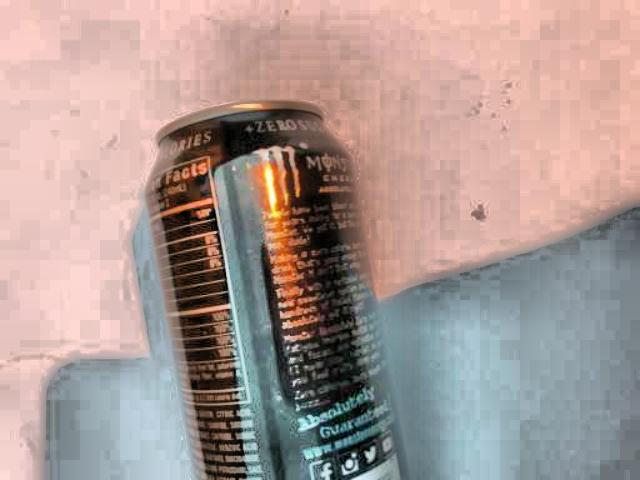Bottles: (125, 84, 432, 480)
